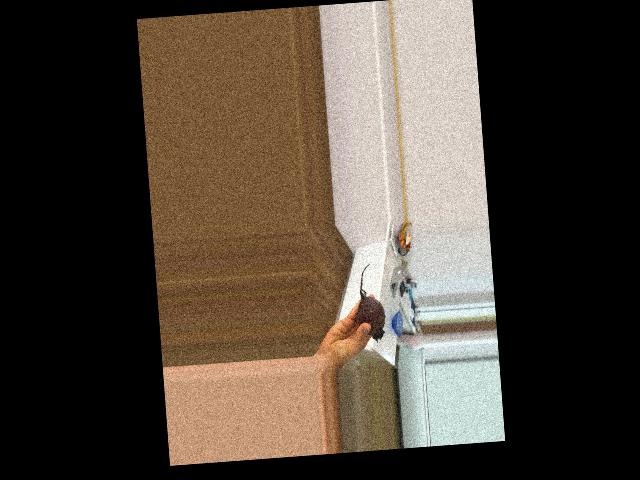beet: (353, 262, 386, 342)
